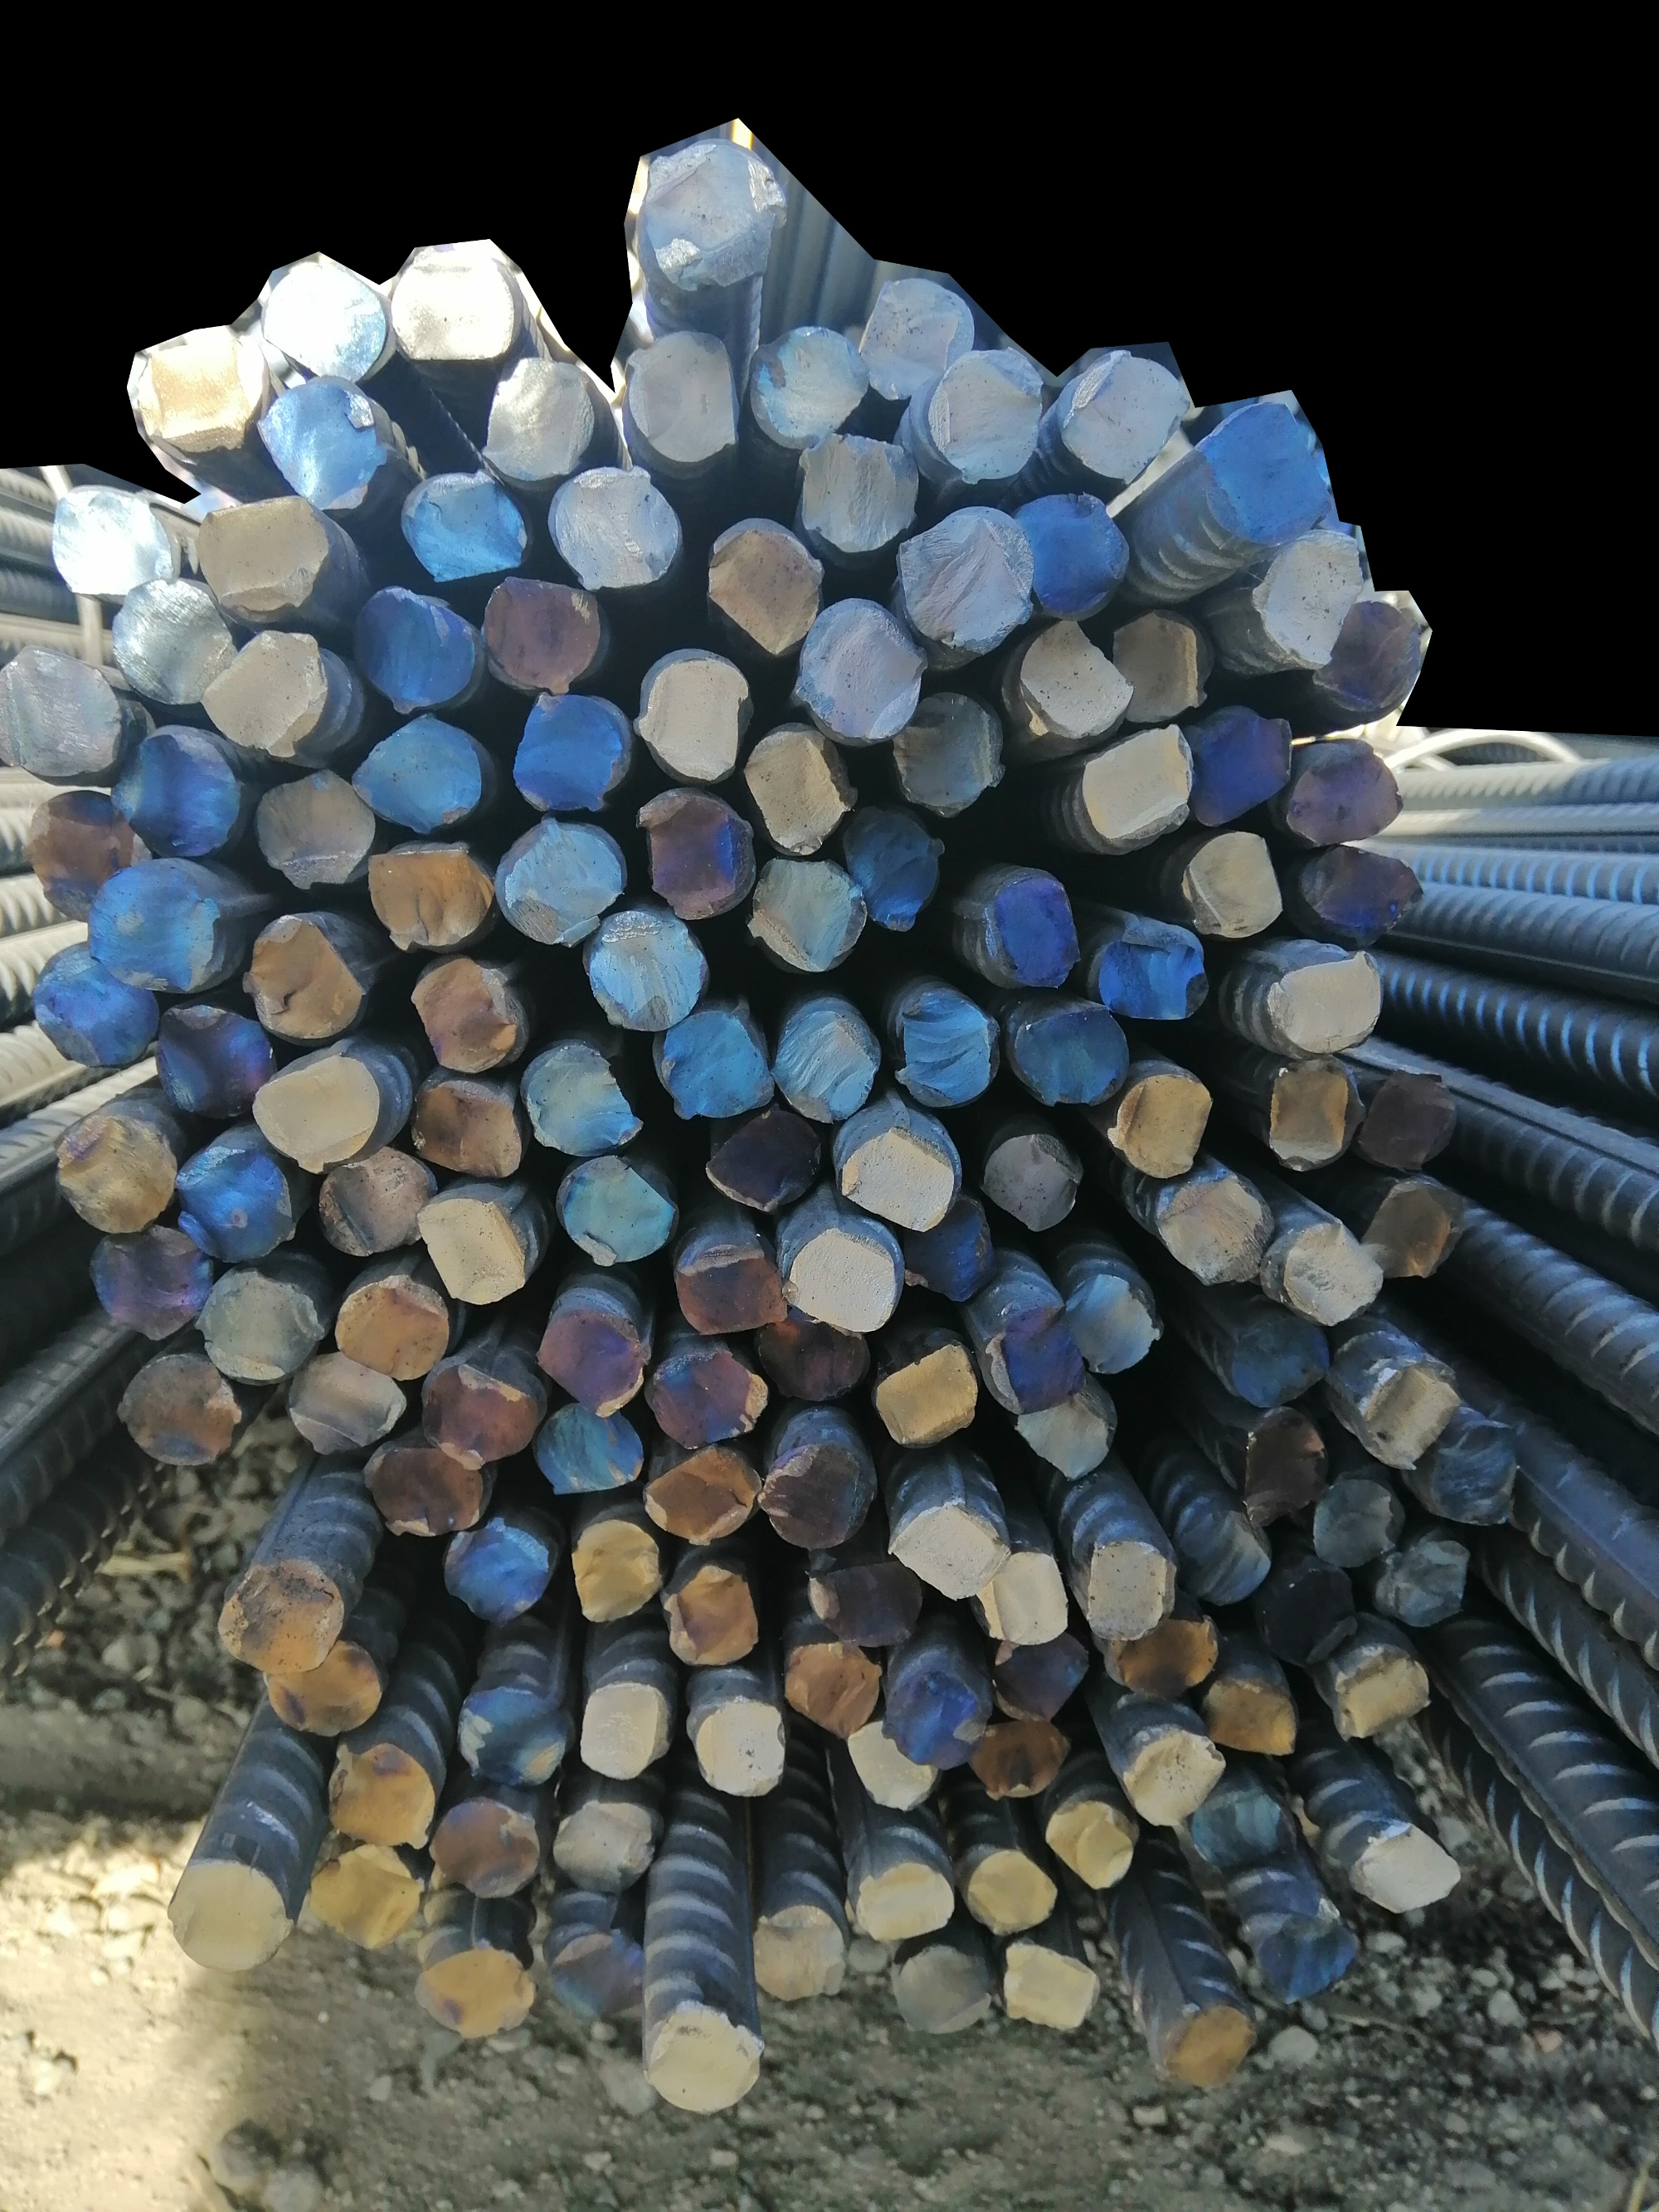rebar: (643, 132, 789, 298), (1187, 396, 1337, 554), (795, 596, 931, 746), (897, 502, 1032, 654), (1056, 345, 1192, 492), (0, 634, 129, 786), (125, 324, 272, 457), (613, 328, 744, 472), (256, 371, 392, 507), (544, 460, 681, 594), (349, 579, 479, 720), (791, 424, 925, 560), (87, 861, 227, 992), (195, 488, 329, 621), (631, 781, 762, 917), (242, 910, 371, 1048), (47, 469, 176, 605), (202, 624, 329, 762), (249, 1048, 378, 1182), (850, 272, 979, 403), (577, 906, 709, 1034), (1251, 528, 1371, 668), (708, 514, 824, 657), (113, 725, 242, 854), (352, 711, 484, 837), (885, 685, 1004, 824), (640, 640, 751, 788), (28, 940, 157, 1067), (640, 1994, 769, 2121), (500, 819, 626, 950), (155, 995, 281, 1126), (831, 1112, 962, 1238), (193, 1264, 324, 1389), (214, 1553, 347, 1677), (117, 573, 239, 708), (924, 347, 1042, 485), (1148, 1161, 1277, 1286), (401, 464, 532, 587), (1079, 720, 1202, 851), (751, 319, 871, 453), (258, 258, 385, 383), (392, 246, 519, 371), (254, 767, 376, 898), (1012, 485, 1126, 624), (742, 854, 873, 974), (59, 1105, 178, 1238), (30, 790, 145, 924), (310, 1138, 434, 1262), (514, 682, 631, 812), (737, 720, 850, 854), (169, 1853, 295, 1973), (477, 354, 594, 483), (118, 1353, 244, 1471), (322, 1733, 439, 1860), (1185, 702, 1298, 833), (518, 1042, 648, 1156), (1002, 999, 1133, 1112), (884, 1496, 1016, 1607), (479, 570, 599, 692), (406, 953, 525, 1077), (173, 1140, 291, 1264), (889, 987, 1004, 1114), (85, 1222, 213, 1337), (1021, 617, 1134, 746), (1260, 943, 1384, 1060), (410, 1935, 537, 2048), (770, 995, 880, 1126), (962, 875, 1087, 988), (1340, 1813, 1466, 1926), (359, 842, 491, 948), (415, 1189, 532, 1309), (866, 1335, 983, 1455), (833, 797, 938, 931), (634, 1449, 767, 1553), (652, 1006, 772, 1121), (401, 1070, 523, 1184), (755, 1438, 871, 1555), (556, 1149, 674, 1264), (535, 1304, 653, 1419), (329, 1271, 450, 1384), (418, 1358, 538, 1471), (253, 1639, 392, 1736), (362, 1435, 490, 1541), (1265, 1213, 1382, 1328), (284, 1351, 408, 1459), (695, 1107, 823, 1211), (978, 1297, 1084, 1419), (1255, 1056, 1364, 1173), (1422, 1405, 1521, 1534), (1286, 741, 1405, 849), (455, 1675, 568, 1787), (880, 1656, 990, 1771), (556, 1790, 673, 1898), (425, 1790, 544, 1896), (305, 1842, 425, 1947), (648, 1347, 770, 1450), (1093, 915, 1208, 1023), (1354, 1065, 1460, 1182), (1107, 1065, 1215, 1178), (788, 1225, 901, 1333), (1349, 1360, 1459, 1469), (1255, 1550, 1361, 1663), (800, 1550, 920, 1649), (999, 1933, 1105, 2045), (443, 1522, 556, 1626), (1108, 610, 1211, 725), (1185, 823, 1283, 943), (1324, 1639, 1431, 1748), (1323, 598, 1427, 709), (892, 1196, 997, 1307), (1110, 1607, 1222, 1712), (526, 1400, 641, 1501), (1241, 1407, 1333, 1532), (1364, 1175, 1462, 1293), (1297, 847, 1419, 941), (573, 1673, 678, 1783), (1246, 1907, 1359, 2008), (978, 1130, 1087, 1232), (1220, 1311, 1333, 1410), (540, 1914, 643, 2022), (1117, 1727, 1225, 1830), (1364, 1529, 1474, 1630), (1082, 1530, 1180, 1644), (673, 1246, 788, 1342), (744, 1902, 849, 2006), (751, 1307, 866, 1401), (653, 1562, 756, 1666), (986, 1626, 1098, 1722), (779, 1635, 880, 1740), (1016, 1388, 1124, 1485), (570, 1520, 666, 1630), (1063, 1267, 1157, 1379), (1300, 1476, 1406, 1574), (892, 1940, 999, 2038), (690, 1693, 786, 1801), (847, 1856, 960, 1947), (978, 1548, 1073, 1654), (1152, 1998, 1249, 2100), (842, 1719, 946, 1813), (1042, 1795, 1138, 1895), (1173, 1504, 1265, 1607), (1185, 1788, 1288, 1881), (1194, 1668, 1297, 1759), (972, 1722, 1068, 1813), (962, 1849, 1056, 1935)
